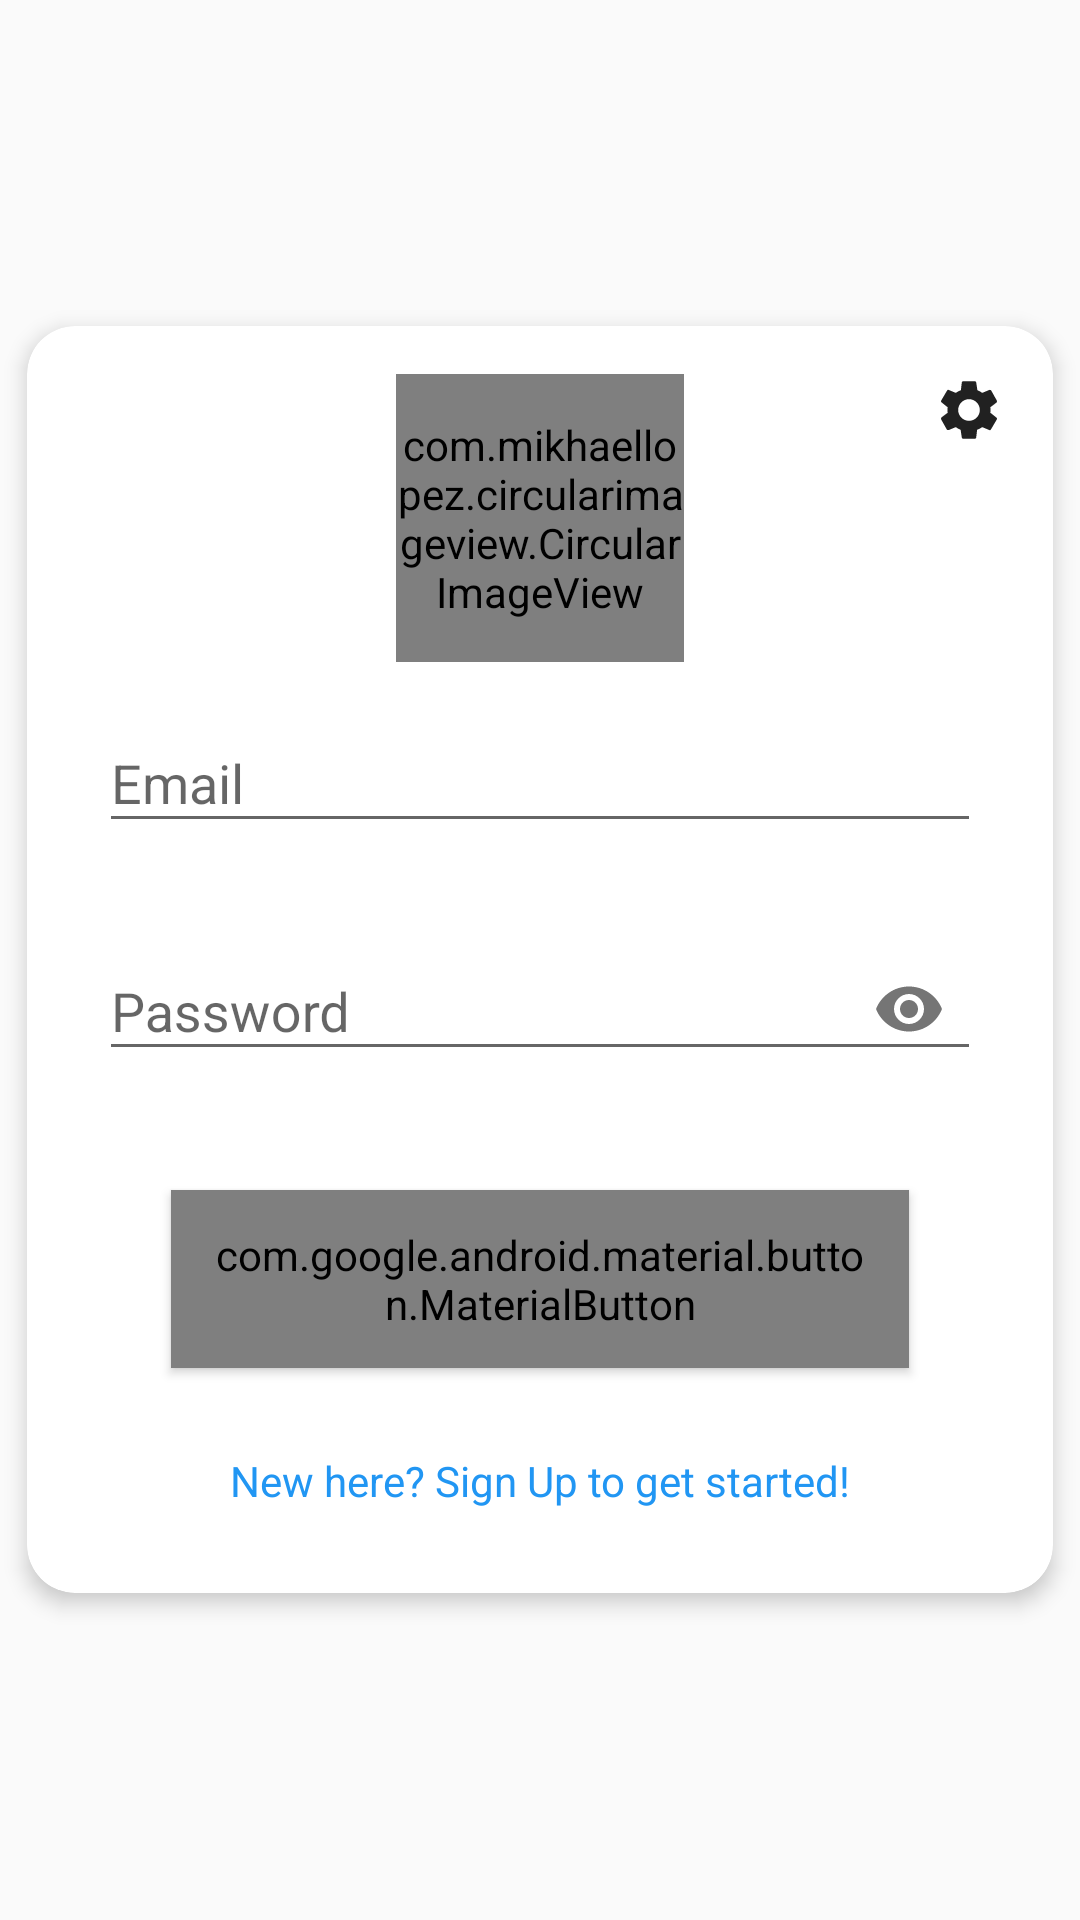

Icons on this 1080*1920 Android screen, each with the point to tap as (x,y):
settings cog: (969,410)
